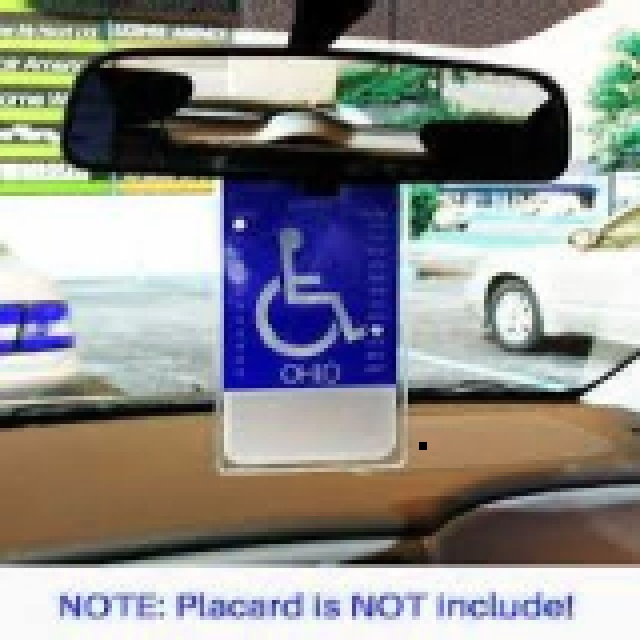ISA: (234, 222, 369, 355)
